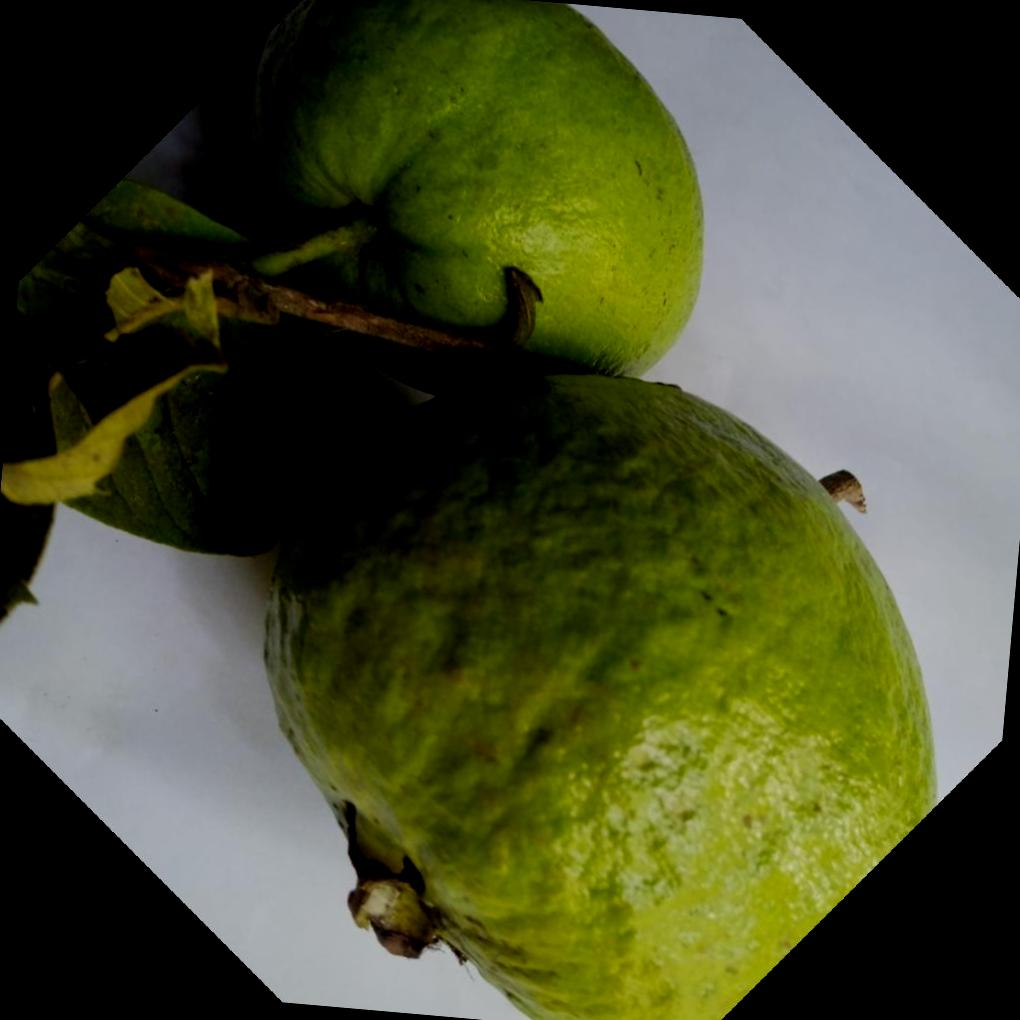FreshGuava: (0, 0, 937, 1020)
